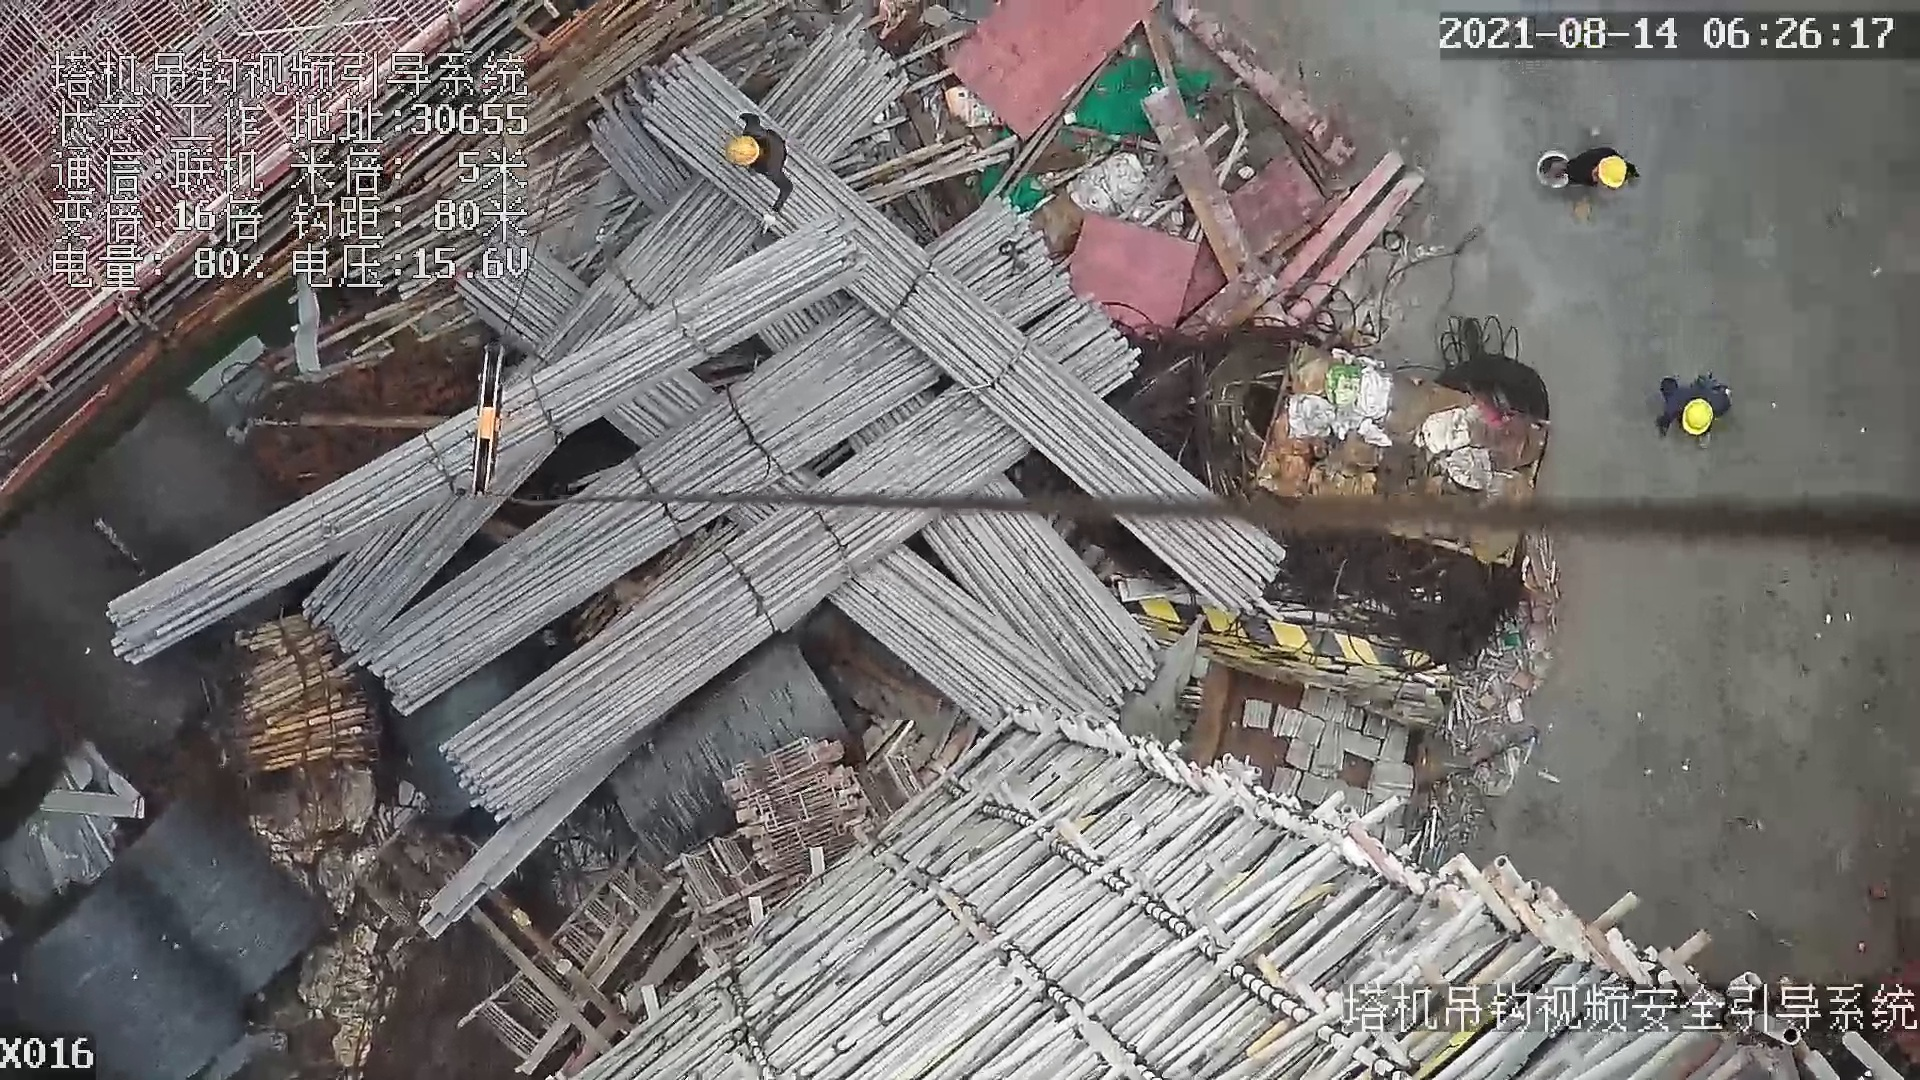helmet: (1596, 149, 1633, 191), (723, 131, 762, 169), (1685, 393, 1715, 441)
hook: (454, 342, 514, 506)
person: (713, 108, 804, 231), (1645, 371, 1731, 447), (1537, 142, 1656, 197)
